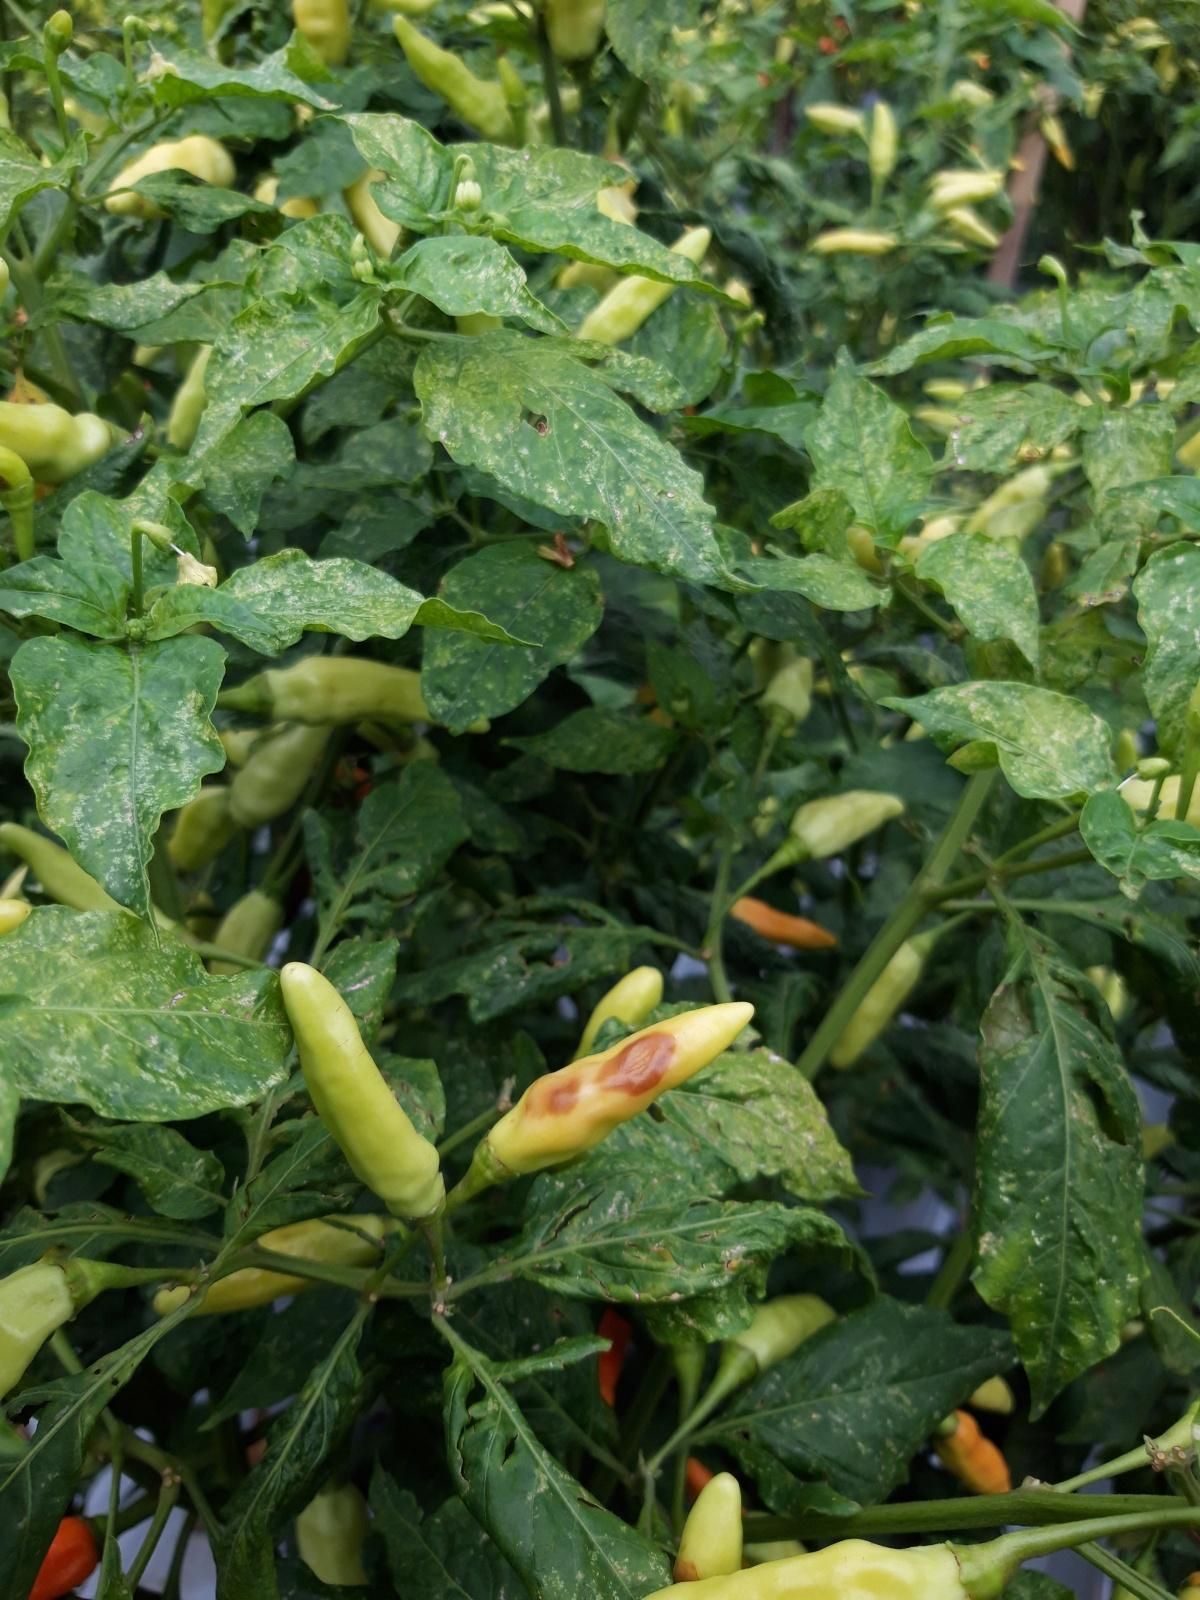cabai_normal: (279, 959, 446, 1228), (245, 656, 493, 734), (1, 1259, 103, 1396), (824, 942, 926, 1070), (229, 722, 330, 825), (787, 792, 906, 862), (734, 896, 839, 949)
lalat_buah: (471, 1002, 755, 1188)
